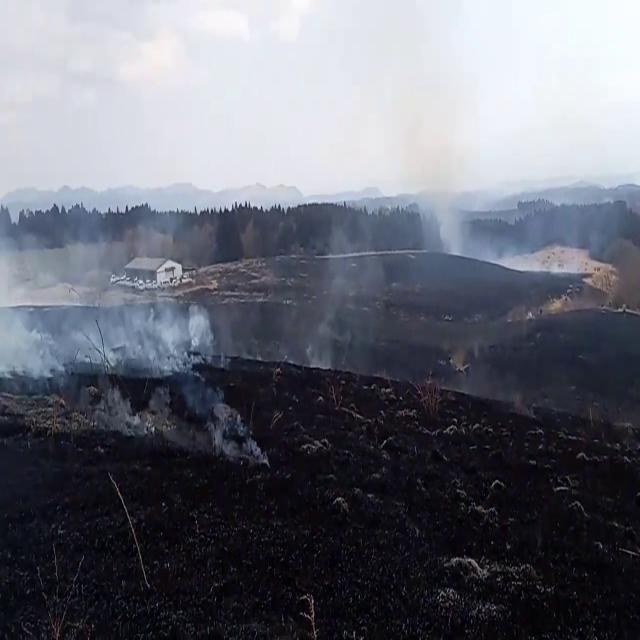Smoke: (1, 191, 216, 380), (304, 223, 386, 371), (422, 180, 489, 260)
